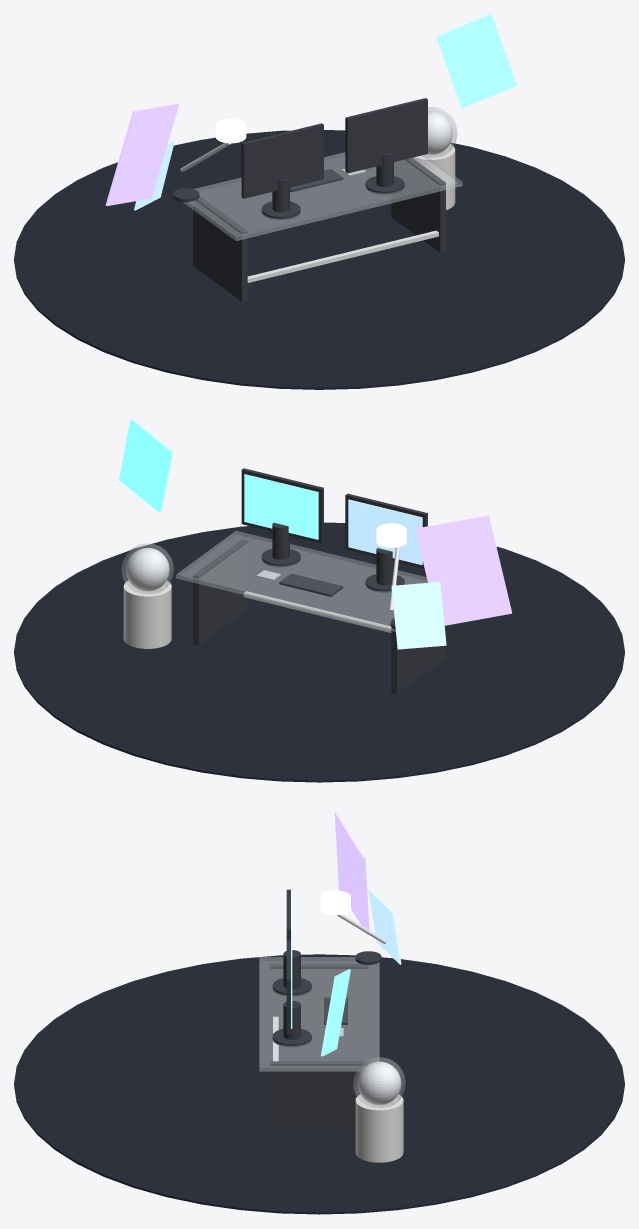
Rendered from studio-hero.glb.
The picture shows the model from 3 angles, top to bottom: view 1: azimuth 30°, elevation 25°; view 2: azimuth 150°, elevation 25°; view 3: azimuth 270°, elevation 25°; orthographic projection.
Parts seen in each view (by area): view 1: FloorDisc, DeskTop, BoardB, MonBezel0, MonBezel1, BoardA, DeskLegL, DeskLegR, DeskRail, OrbShell, Pedestal, Orb (+4 smaller); view 2: FloorDisc, DeskTop, BoardA, DeskLegR, MonScreen1, BoardC, BoardB, Pedestal, MonScreen0, OrbShell, DeskLegL, Orb (+7 smaller); view 3: FloorDisc, DeskTop, DeskLegR, DeskLegL, Pedestal, BoardA, OrbShell, Orb, BoardB, BoardC, LampShade.
Part boxes in pixels (x1,y1,x2,y2): FloorDisc: (14,130,624,389); DeskTop: (183,152,462,240); BoardB: (436,14,516,108); MonBezel0: (241,123,323,198); MonBezel1: (345,98,427,173); BoardA: (105,103,179,205); DeskLegL: (193,196,247,301); DeskLegR: (391,158,445,253); DeskRail: (247,230,438,282); OrbShell: (426,107,456,157); Pedestal: (412,144,455,209); Orb: (427,111,452,154); FloorDisc: (14,522,624,782); DeskTop: (176,531,427,631); BoardA: (415,515,511,625); DeskLegR: (193,539,247,645); MonScreen1: (244,474,318,539); BoardC: (391,582,446,649); BoardB: (119,418,172,512); Pedestal: (123,580,171,648); MonScreen0: (348,499,422,564); OrbShell: (122,543,173,593); DeskLegL: (391,625,445,694); Orb: (126,548,169,591); FloorDisc: (14,954,624,1214); DeskTop: (259,957,379,1071); DeskLegR: (270,1061,368,1133); DeskLegL: (270,964,368,1036); Pedestal: (355,1094,403,1162); BoardA: (334,811,369,935); OrbShell: (353,1057,405,1107); Orb: (357,1061,401,1104); BoardB: (321,969,350,1056); BoardC: (368,889,401,964); LampShade: (320,890,350,915).
Size of the model in its own units: 5.6 by 1.99 by 5.6.
